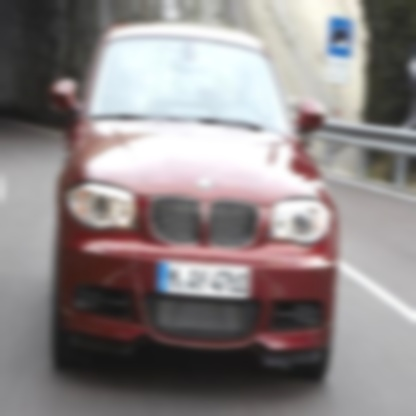Vehicle: (48, 17, 338, 384)
